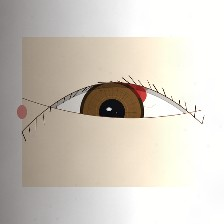hemorrhage_spot: (94, 70, 155, 120)
